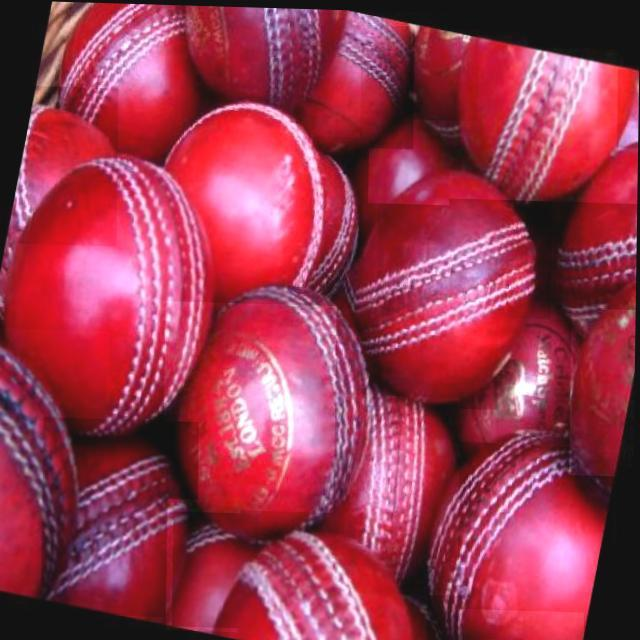-: (0, 136, 242, 459), (164, 278, 389, 550), (336, 157, 554, 408), (134, 83, 346, 304), (429, 438, 616, 640), (439, 31, 640, 200), (43, 417, 200, 617), (0, 328, 111, 604), (334, 392, 462, 593), (240, 509, 430, 640), (177, 5, 362, 136), (54, 2, 198, 152), (13, 86, 119, 246), (288, 132, 379, 304), (168, 498, 264, 631), (560, 148, 638, 306), (316, 22, 414, 146), (570, 288, 636, 472), (498, 314, 576, 444), (174, 510, 260, 627), (369, 106, 451, 202), (400, 22, 479, 118), (459, 606, 586, 640), (618, 65, 640, 144)
